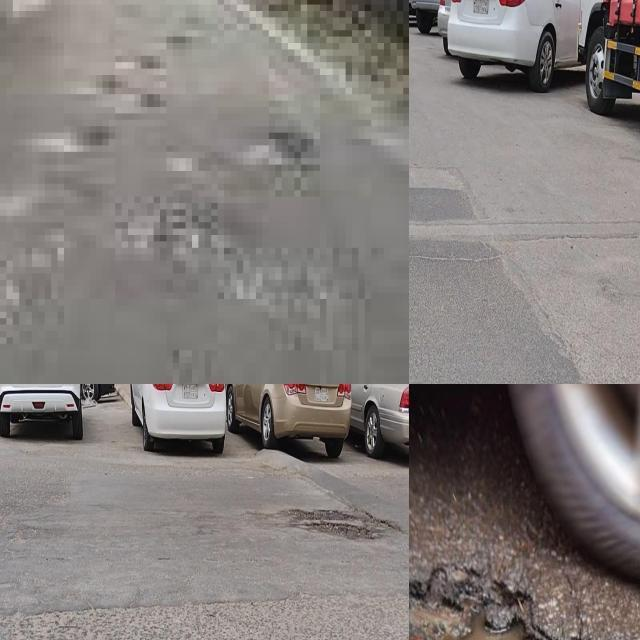Pothole: (32, 24, 198, 158), (128, 190, 224, 261), (256, 113, 314, 203), (284, 509, 375, 545), (275, 229, 314, 305)
